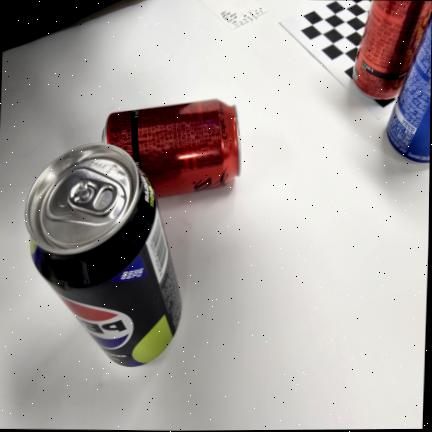can_coke_zero: (102, 99, 240, 196), (352, 0, 432, 99)
can_pepsi: (386, 15, 432, 163)
can_pepsi_zero: (25, 143, 181, 366)
